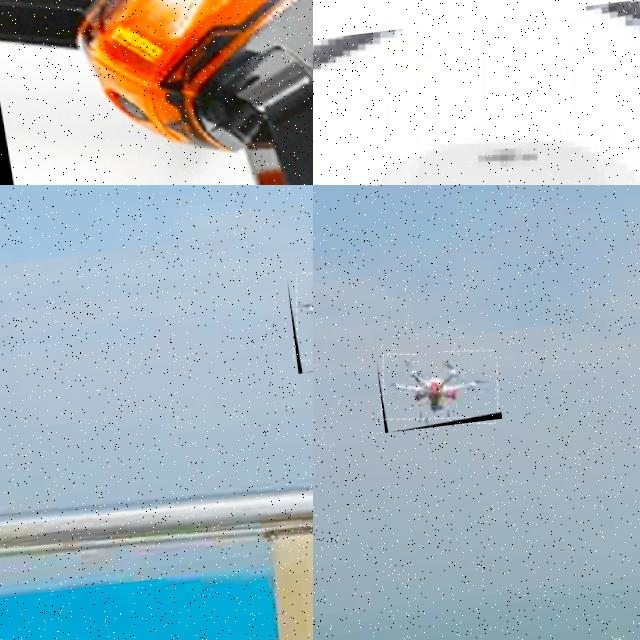0: (376, 344, 502, 432), (286, 263, 313, 373)
drone: (313, 0, 640, 185), (0, 0, 313, 185)
